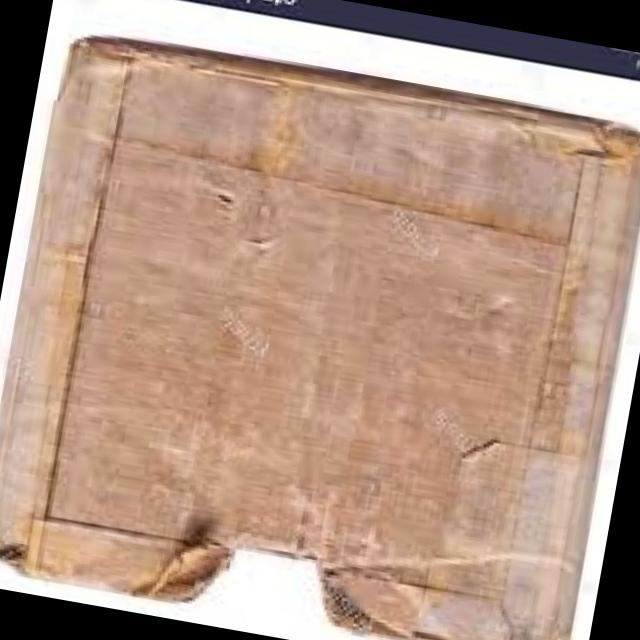cardboard paper: (0, 39, 640, 640)
